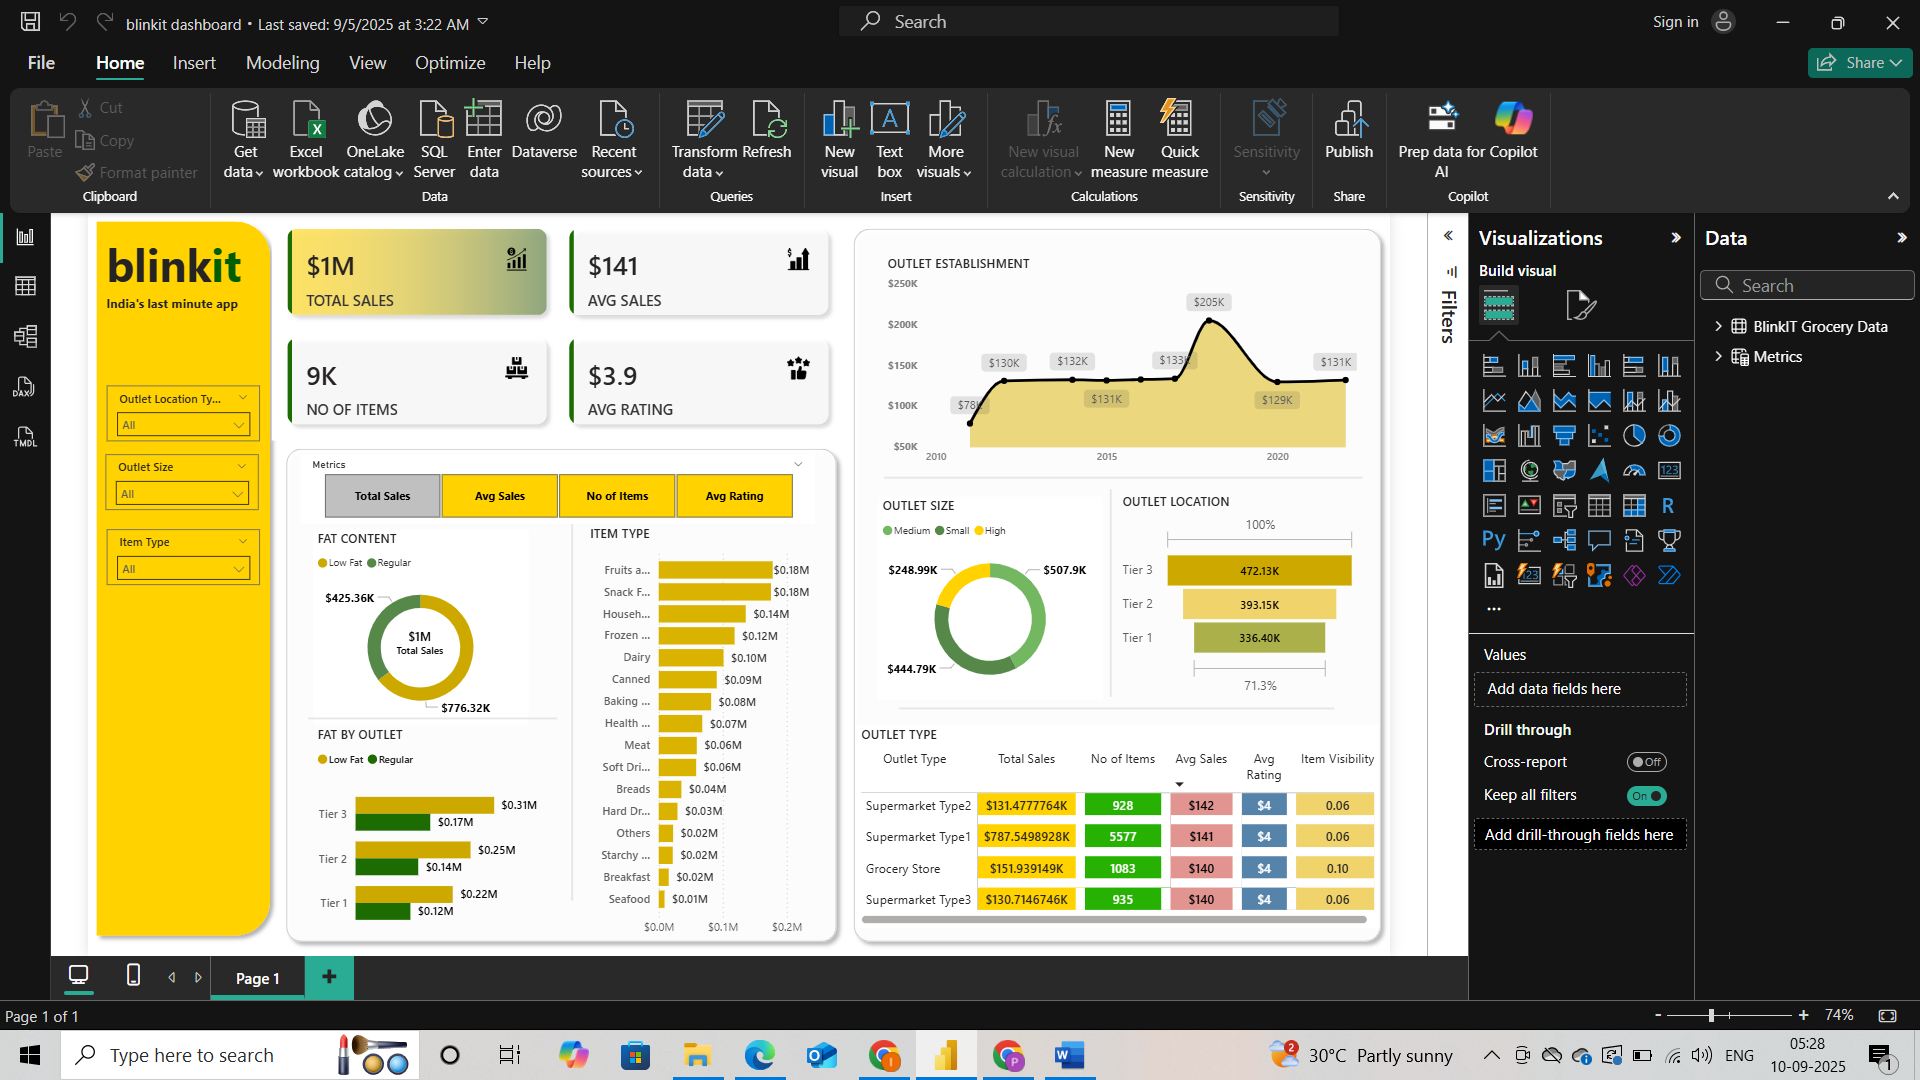

The dashboard page shown, as its layout file describes it:
{"tool":"powerbi","page":{"name":"Page 1","canvas":[1400,800],"ordinal":0},"visuals":[{"type":"shape","box":[0,0,205,786.7],"z":0},{"type":"textbox","box":[15,17.7,174.3,81.4],"z":1000},{"type":"textbox","box":[15,83.3,173.3,35],"z":2000},{"type":"cardVisual","fields":{"Data":["BlinkIT Grocery Data.Total Sales","BlinkIT Grocery Data.Avg Sales","BlinkIT Grocery Data.No of Items","BlinkIT Grocery Data.Avg Rating"]},"box":[198.3,0,616.7,245],"z":3000},{"type":"shape","box":[205,245,610,548.3],"z":4000},{"type":"donutChart","title":"FAT CONTENT","fields":{"Y":["BlinkIT Grocery Data.Avg Rating"],"Category":["BlinkIT Grocery Data.Item Fat Content"]},"box":[241.7,340,231.7,210],"z":5000},{"type":"slicer","fields":{"Values":["Metrics.Metrics"]},"box":[228.3,260,553.3,75],"z":6000},{"type":"cardVisual","fields":{"Data":["BlinkIT Grocery Data.Total Sales"]},"box":[308.3,428.3,98.3,68.3],"z":7000},{"type":"clusteredBarChart","title":"FAT BY OUTLET","fields":{"Y":["BlinkIT Grocery Data.Avg Rating"],"Category":["BlinkIT Grocery Data.Outlet Location Type"],"Series":["BlinkIT Grocery Data.Item Fat Content"]},"box":[241.7,551.7,246.7,235],"z":8000},{"type":"shape","box":[236.7,538.3,268.3,11.7],"z":9000},{"type":"shape","box":[515,335,11.7,405],"z":10000},{"type":"barChart","title":"ITEM TYPE","fields":{"Y":["BlinkIT Grocery Data.Avg Rating"],"Category":["BlinkIT Grocery Data.Item Type"]},"box":[535,335,263.3,451.7],"z":11000},{"type":"shape","box":[815,8.3,585,785],"z":12000},{"type":"lineChart","title":"OUTLET ESTABLISHMENT","fields":{"Category":["BlinkIT Grocery Data.Outlet Establishment Year"],"Y":["BlinkIT Grocery Data.Total Sales"]},"box":[855,45,515,235],"z":13000},{"type":"shape","box":[856.7,280,515,10],"z":14000},{"type":"donutChart","title":"OUTLET SIZE","fields":{"Y":["BlinkIT Grocery Data.Total Sales"],"Category":["BlinkIT Grocery Data.Outlet Size"]},"box":[850,305,241.7,218.3],"z":15000},{"type":"funnel","title":"OUTLET LOCATION","fields":{"Y":["Sum(BlinkIT Grocery Data.Sales)"],"Category":["BlinkIT Grocery Data.Outlet Location Type"]},"box":[1108.3,301.7,261.7,221.7],"z":16000},{"type":"shape","box":[1091.7,296.7,16.7,223.3],"z":17000},{"type":"shape","box":[873.3,526.7,468.3,11.7],"z":18000},{"type":"pivotTable","title":"OUTLET TYPE","fields":{"Rows":["BlinkIT Grocery Data.Outlet Type"],"Values":["BlinkIT Grocery Data.Total Sales","BlinkIT Grocery Data.No of Items","BlinkIT Grocery Data.Avg Sales","BlinkIT Grocery Data.Avg Rating","Avg(BlinkIT Grocery Data.Item Visibility)"]},"box":[826.7,551.7,561.7,218.3],"z":19000},{"type":"slicer","fields":{"Values":["BlinkIT Grocery Data.Outlet Location Type"]},"box":[20,185,165,60],"z":20000},{"type":"slicer","fields":{"Values":["BlinkIT Grocery Data.Outlet Size"]},"box":[18.3,260,165,60],"z":21000},{"type":"slicer","fields":{"Values":["BlinkIT Grocery Data.Item Type"]},"box":[20,340,165,60],"z":22000},{"type":"image","box":[65.9,445.2,71.3,64.6],"z":23000},{"type":"image","box":[74,539.3,55.1,53.8],"z":24000},{"type":"image","box":[67.2,630.8,69.9,59.2],"z":25001}]}

Visuals, with their boxes on the page's 1400x800 design canvas (x1, y1, x2, y2). These are canvas units, not pixel positions in the 1920x1080 screenshot, which may show the page scaled, cropped or inside an application window:
shape: bbox(0, 0, 205, 787)
textbox: bbox(15, 18, 189, 99)
textbox: bbox(15, 83, 188, 118)
cardVisual - BlinkIT Grocery Data.Total Sales x BlinkIT Grocery Data.Avg Sales: bbox(198, 0, 815, 245)
shape: bbox(205, 245, 815, 793)
"FAT CONTENT" donutChart: bbox(242, 340, 473, 550)
slicer - Metrics.Metrics: bbox(228, 260, 782, 335)
cardVisual - BlinkIT Grocery Data.Total Sales: bbox(308, 428, 407, 497)
"FAT BY OUTLET" clusteredBarChart: bbox(242, 552, 488, 787)
shape: bbox(237, 538, 505, 550)
shape: bbox(515, 335, 527, 740)
"ITEM TYPE" barChart: bbox(535, 335, 798, 787)
shape: bbox(815, 8, 1400, 793)
"OUTLET ESTABLISHMENT" lineChart: bbox(855, 45, 1370, 280)
shape: bbox(857, 280, 1372, 290)
"OUTLET SIZE" donutChart: bbox(850, 305, 1092, 523)
"OUTLET LOCATION" funnel: bbox(1108, 302, 1370, 523)
shape: bbox(1092, 297, 1108, 520)
shape: bbox(873, 527, 1342, 538)
"OUTLET TYPE" pivotTable: bbox(827, 552, 1388, 770)
slicer - BlinkIT Grocery Data.Outlet Location Type: bbox(20, 185, 185, 245)
slicer - BlinkIT Grocery Data.Outlet Size: bbox(18, 260, 183, 320)
slicer - BlinkIT Grocery Data.Item Type: bbox(20, 340, 185, 400)
image: bbox(66, 445, 137, 510)
image: bbox(74, 539, 129, 593)
image: bbox(67, 631, 137, 690)
